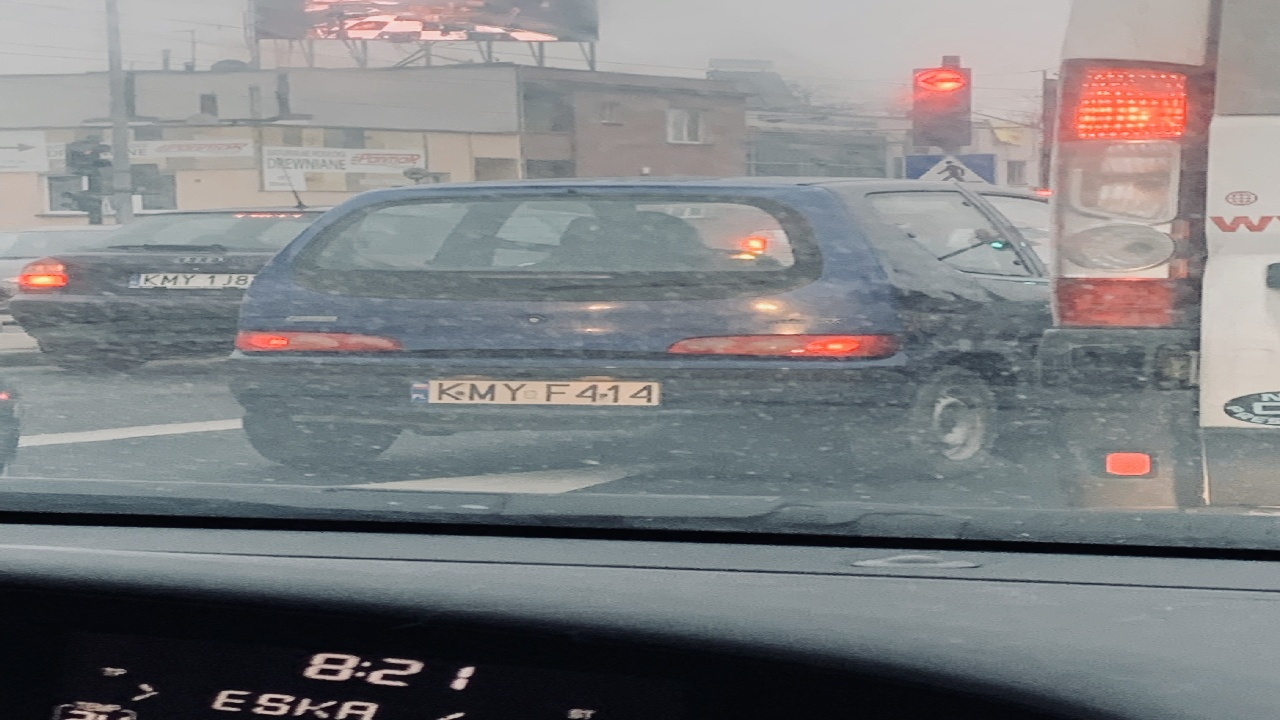Red: (916, 69, 968, 144)
